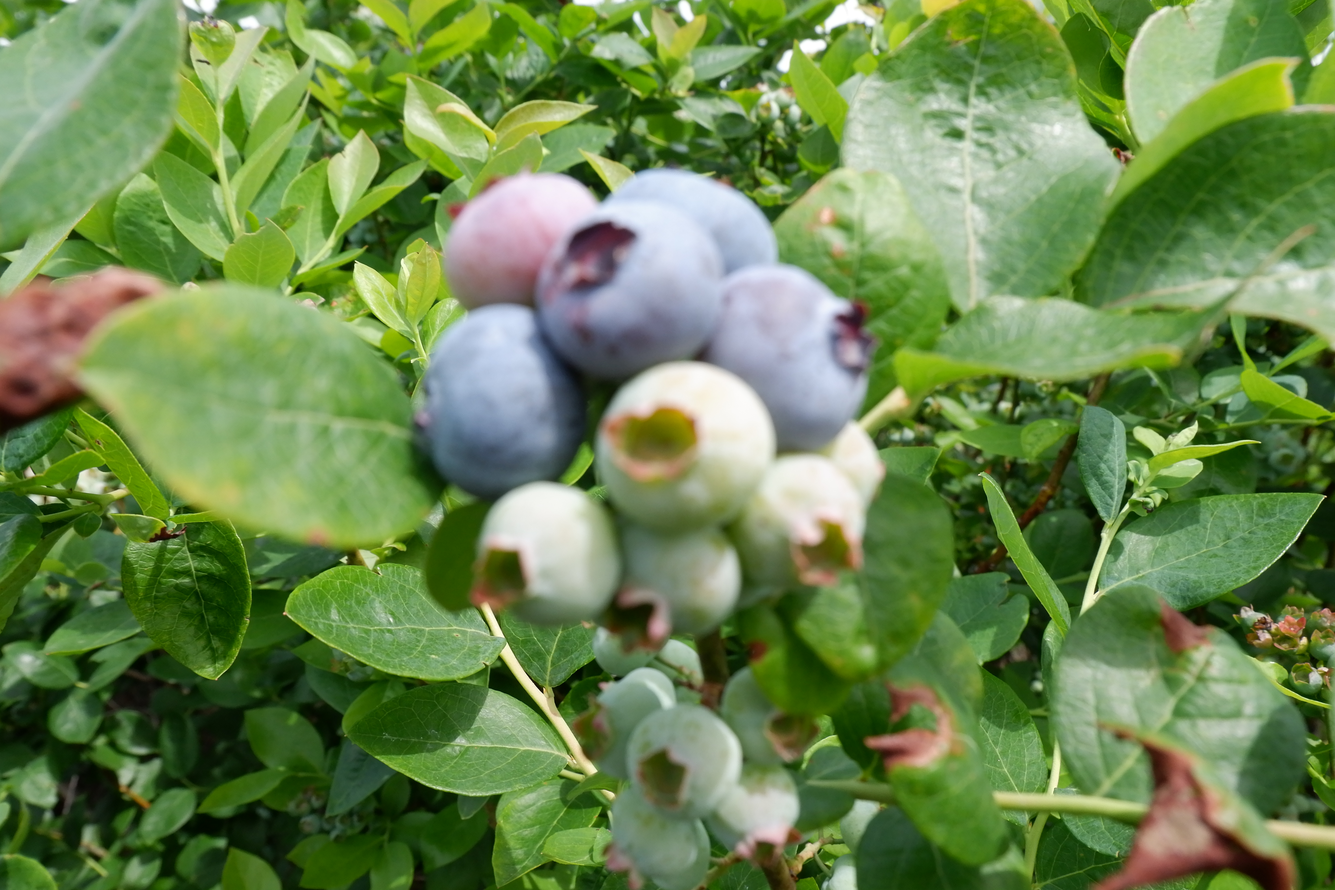Immature: (596, 364, 771, 533), (475, 485, 620, 625), (447, 177, 595, 306), (729, 457, 862, 591), (615, 518, 740, 638), (627, 708, 738, 817), (608, 782, 709, 885), (579, 672, 674, 777), (725, 670, 814, 767), (707, 765, 799, 853), (818, 423, 883, 523), (595, 601, 667, 675)
Mature: (536, 202, 718, 380), (415, 310, 583, 500), (701, 267, 869, 449), (605, 171, 774, 272)
